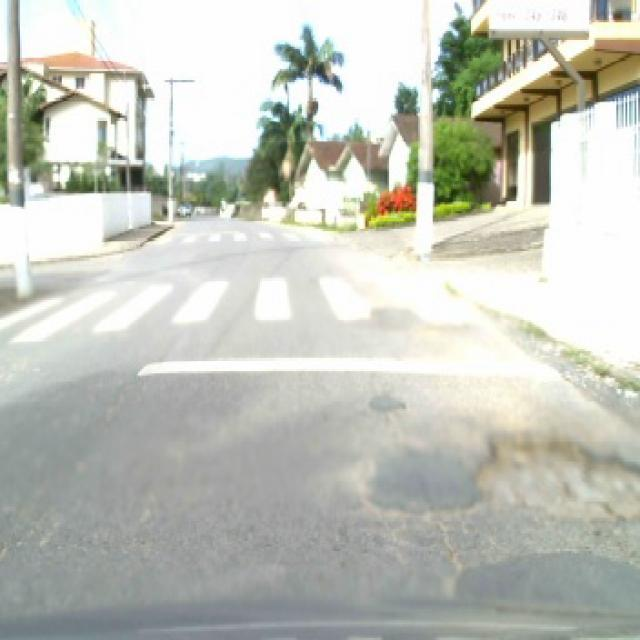Poth-hole: (348, 448, 488, 576), (468, 424, 636, 520)
